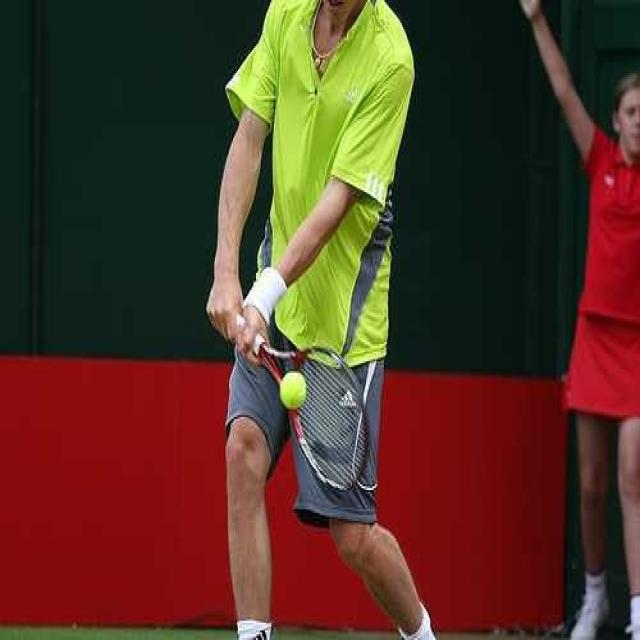Tennis_Ball: (280, 370, 307, 411)
